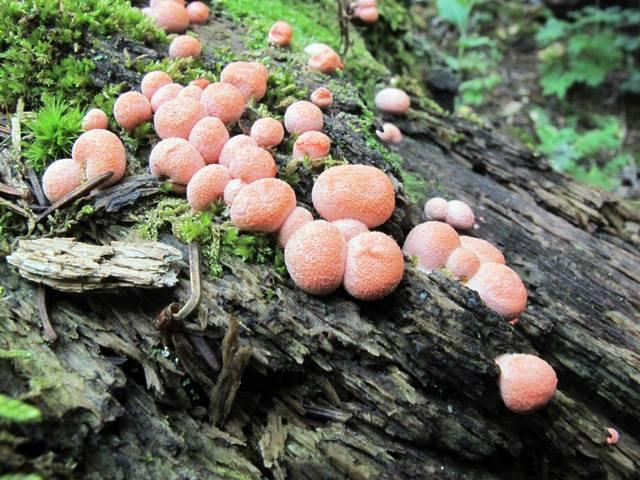poisonous_mushroom: (38, 0, 559, 413), (310, 162, 395, 226), (283, 218, 346, 294), (342, 229, 404, 300), (493, 351, 558, 413), (464, 261, 527, 322), (229, 176, 296, 232), (70, 127, 126, 187), (373, 86, 410, 114)
